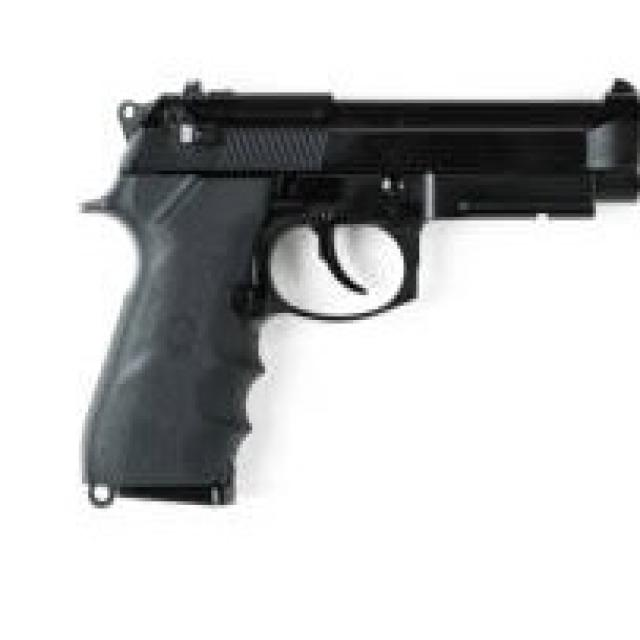pistol: (68, 60, 640, 519)
